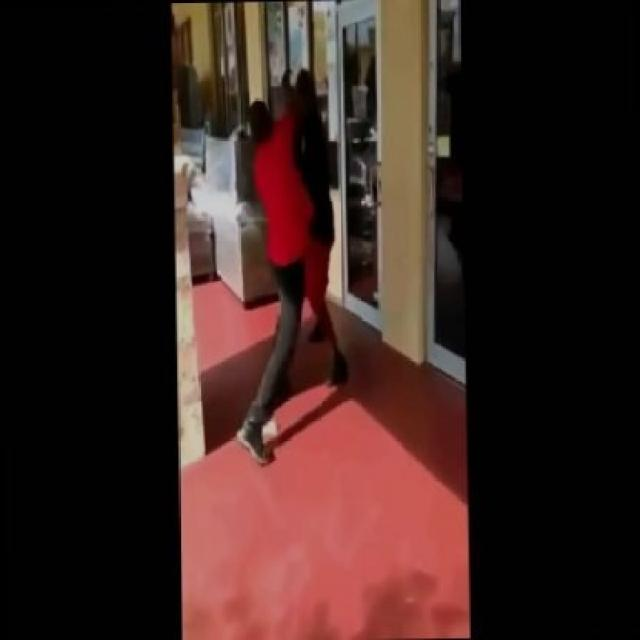fight: (216, 62, 356, 460)
